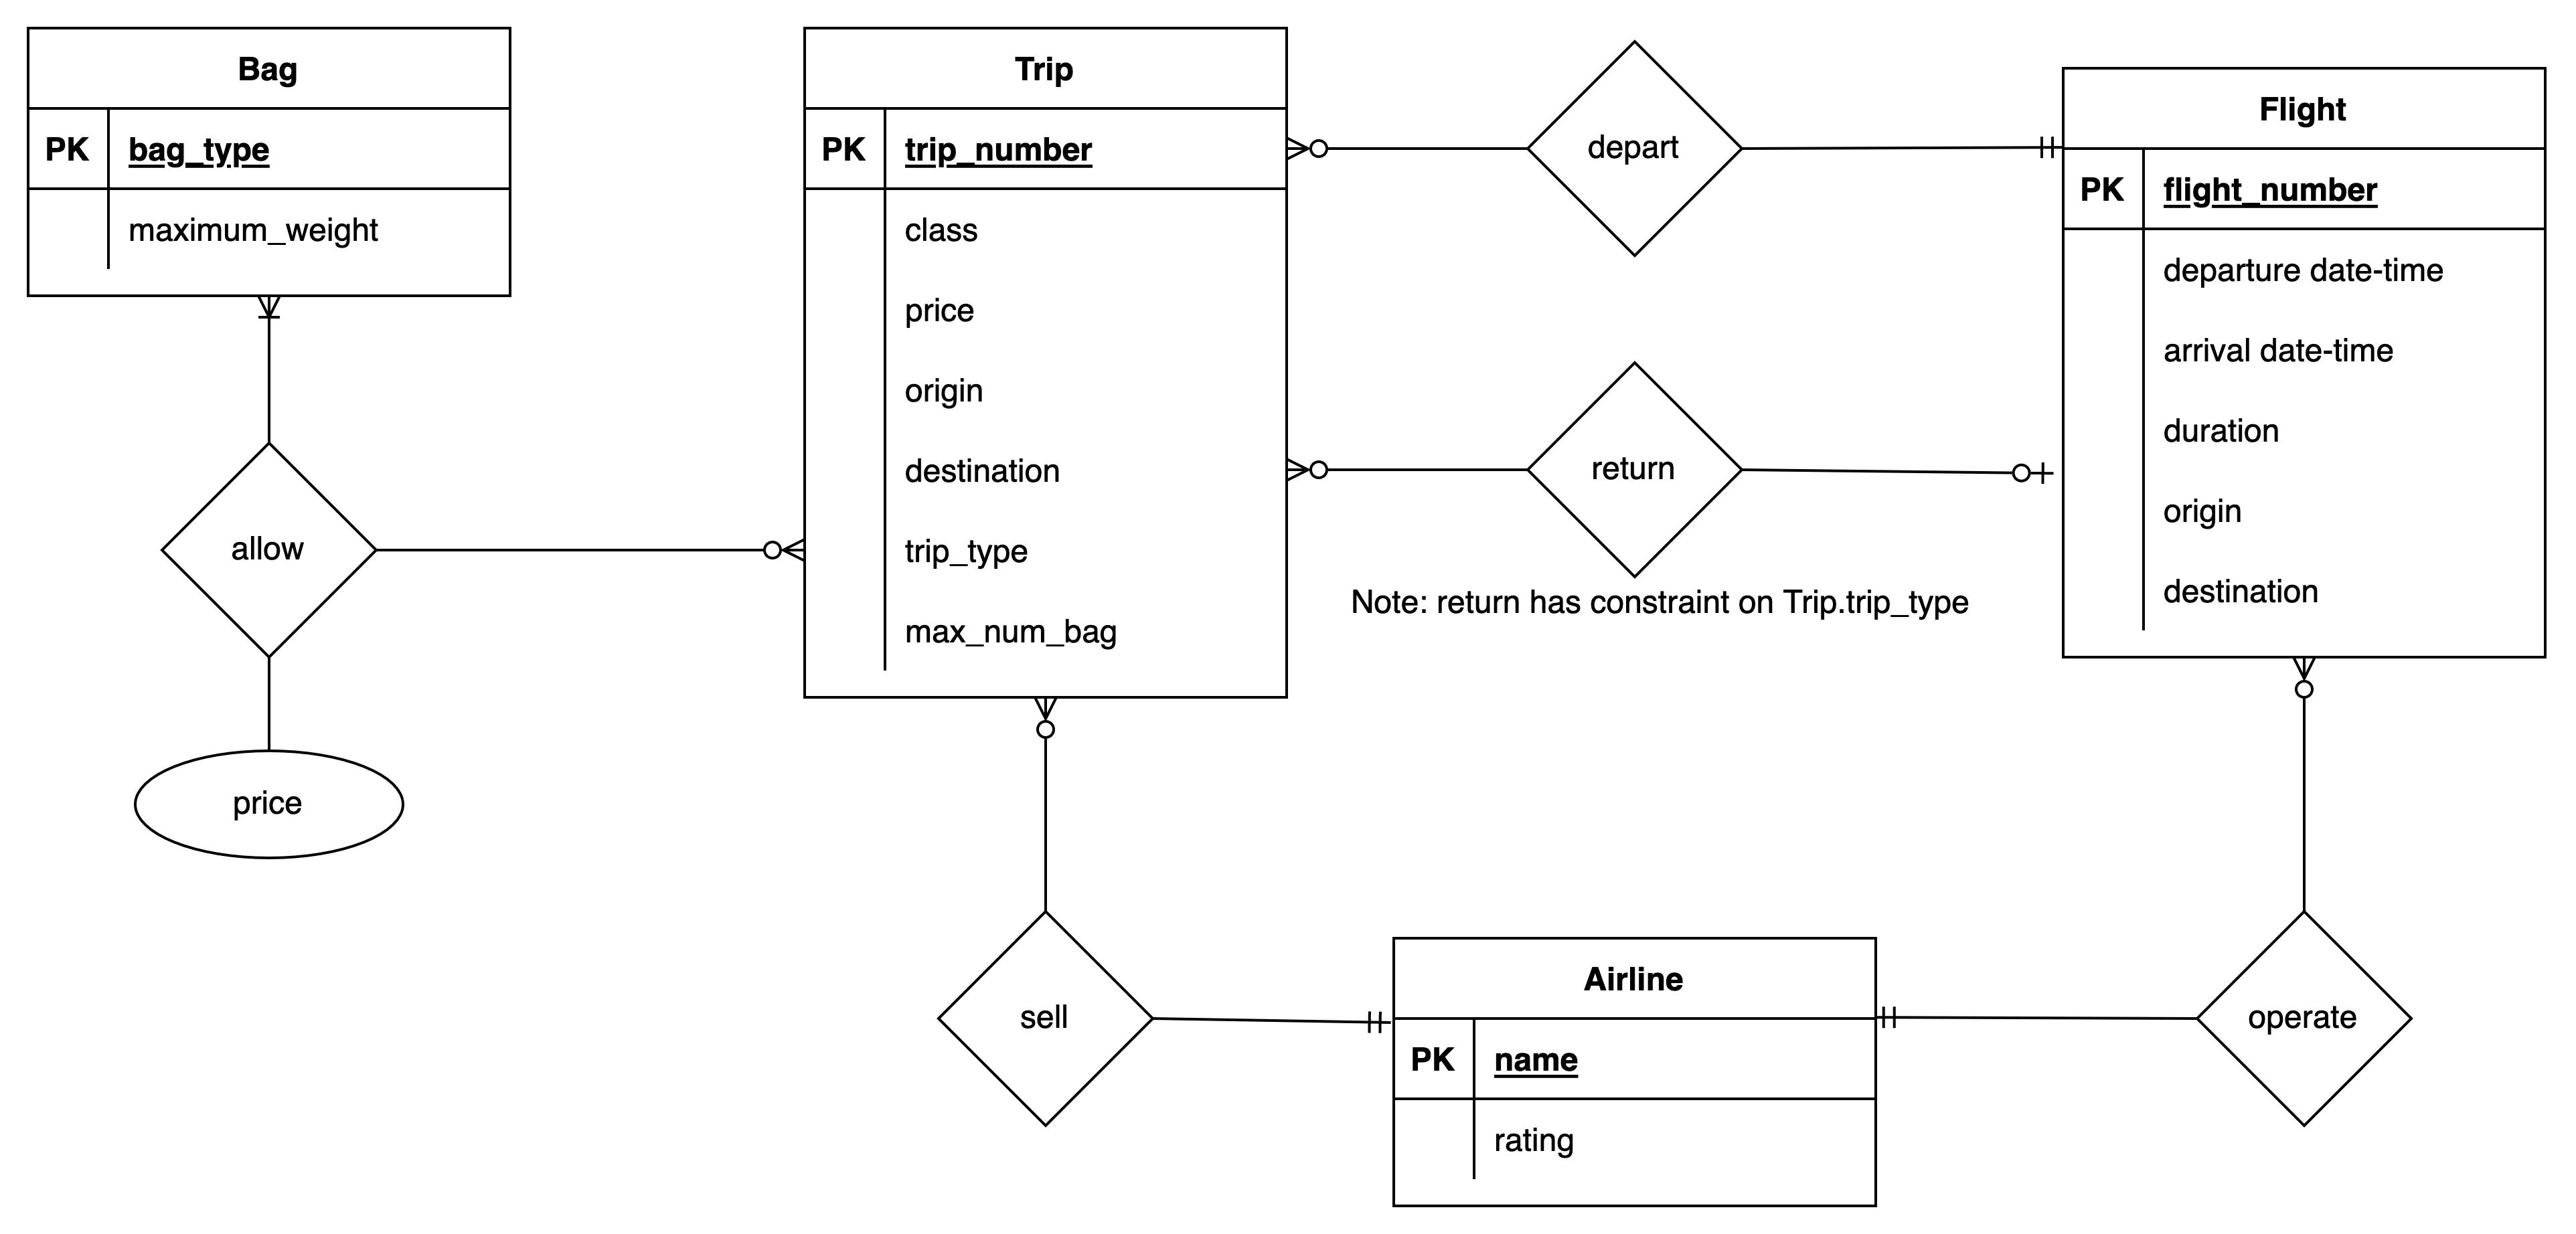attribute: (136, 754, 406, 859)
entity: (798, 21, 1288, 703), (2055, 66, 2551, 664), (1387, 928, 1884, 1214), (21, 28, 516, 306)
relationship: (1526, 39, 1745, 256), (936, 914, 1150, 1126), (1526, 363, 1736, 575), (2201, 910, 2410, 1122), (163, 447, 373, 654)
